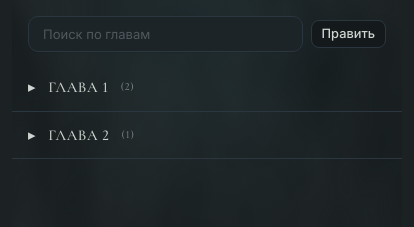
Test case: ChaptersTab — edit-mode › кнопка «Править» включает edit-mode
The width and height of the screenshot is (414, 227).
Click the button "Править" at (348,34), box [311,20,386,48]
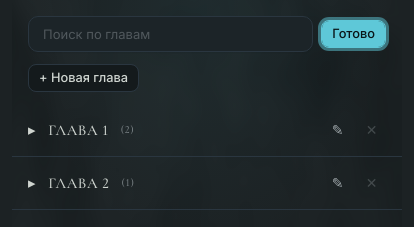
Expected: the button "Готово" is shown, [321,20,386,48]
Expected: the button "+ Новая глава" is shown, [28,64,139,92]
